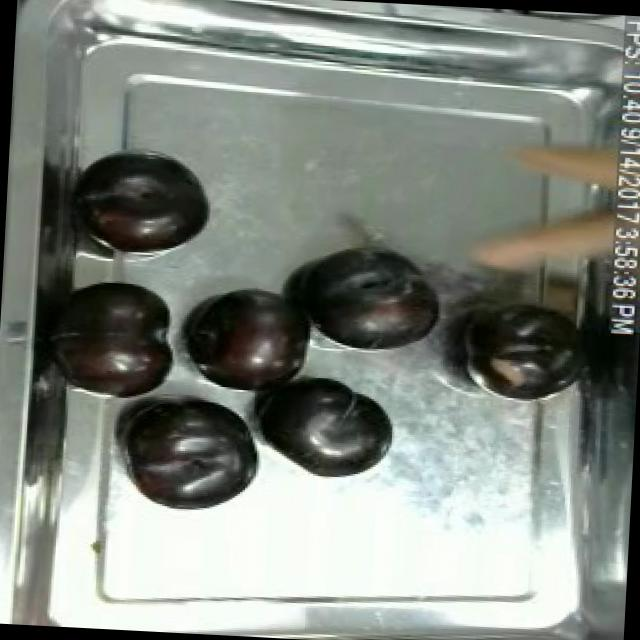Fruit: (288, 234, 451, 364), (242, 366, 404, 491), (114, 390, 266, 519), (43, 270, 186, 405), (177, 275, 325, 402), (80, 143, 222, 264), (452, 297, 589, 408)
